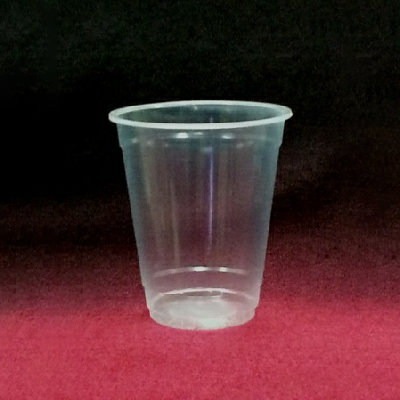plastic_glass: (104, 93, 295, 343)
